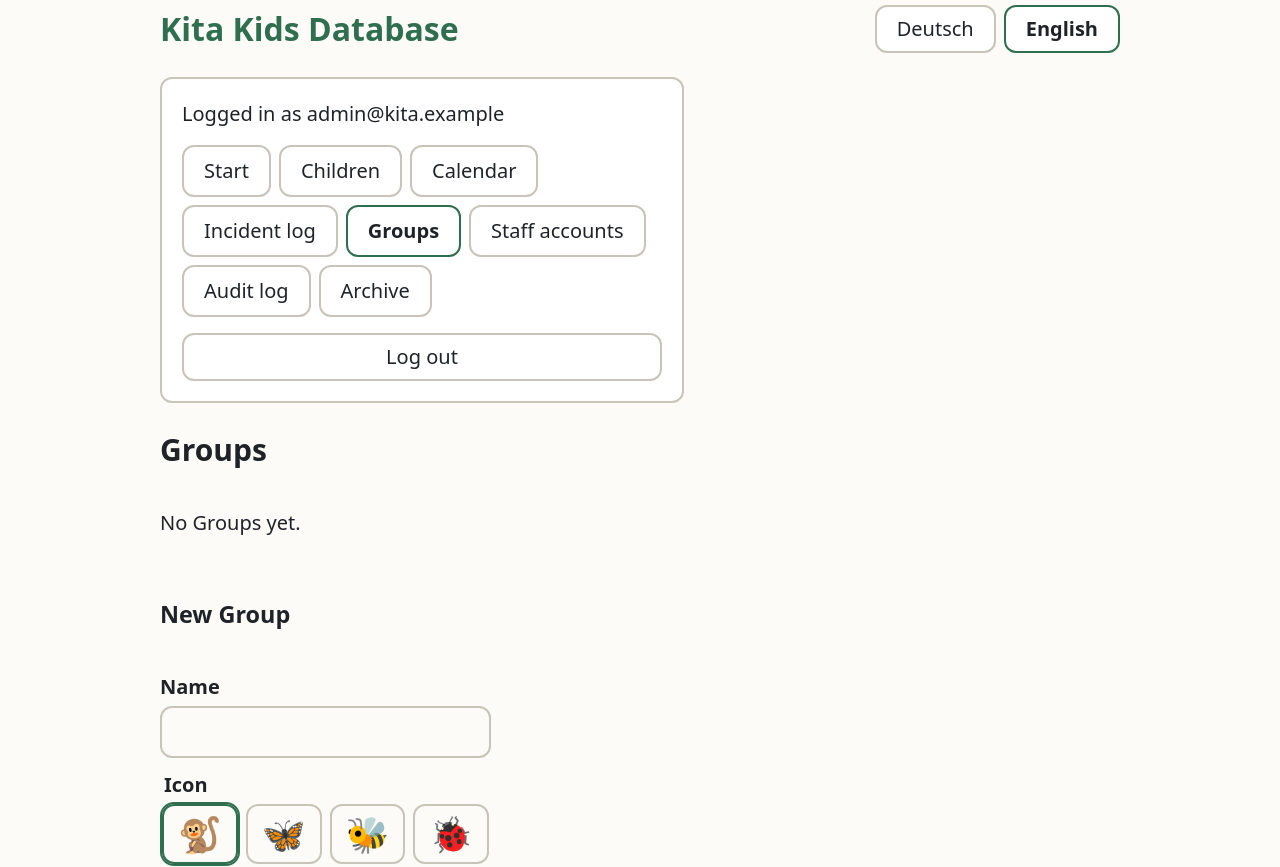
Groups › lets an Admin create a Group with a name and an icon
The width and height of the screenshot is (1280, 867).
Type "Bees" into the field labelled "Name" at coordinates (326, 732), box x1=160 y1=706 x2=491 y2=758
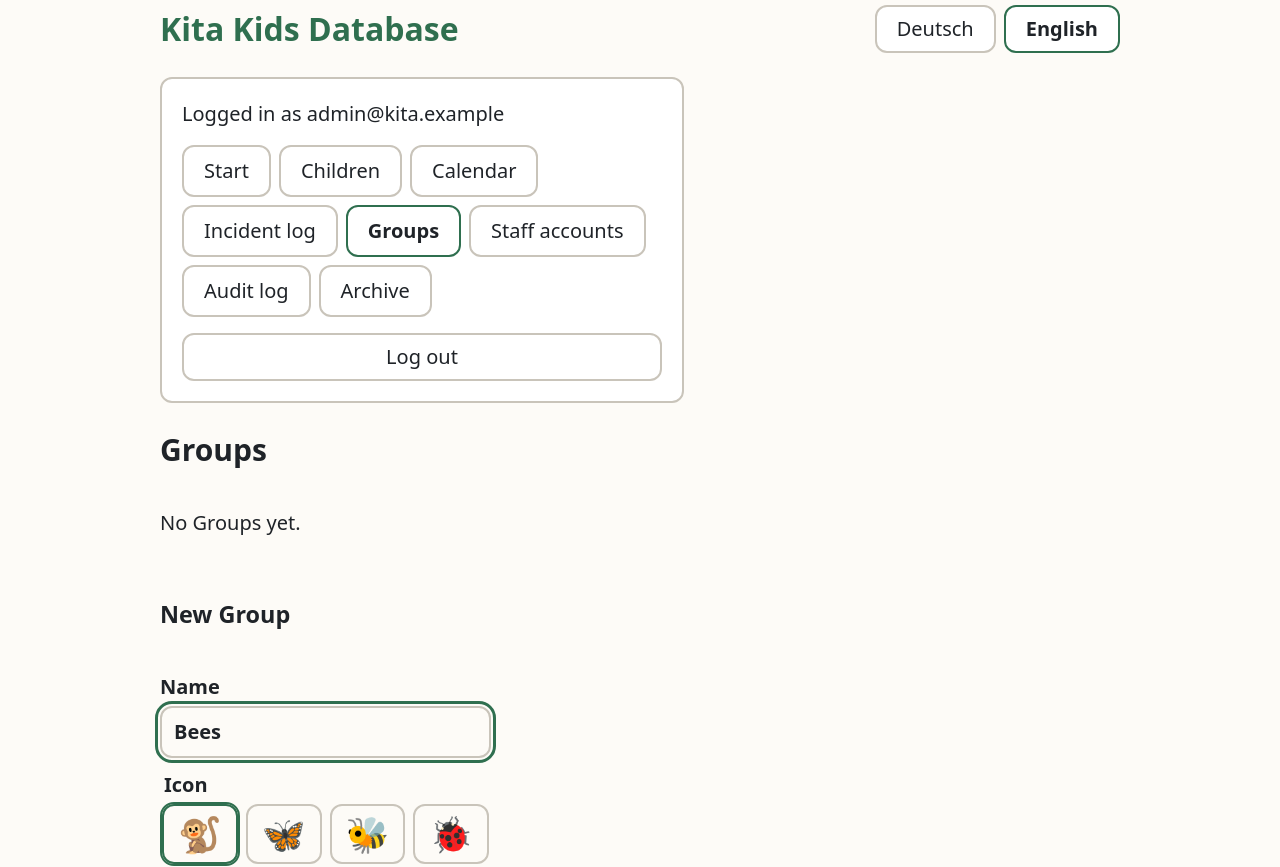
Click the radio button named "Bee" at coordinates (367, 834), box x1=330 y1=804 x2=405 y2=864
(page scrolled)
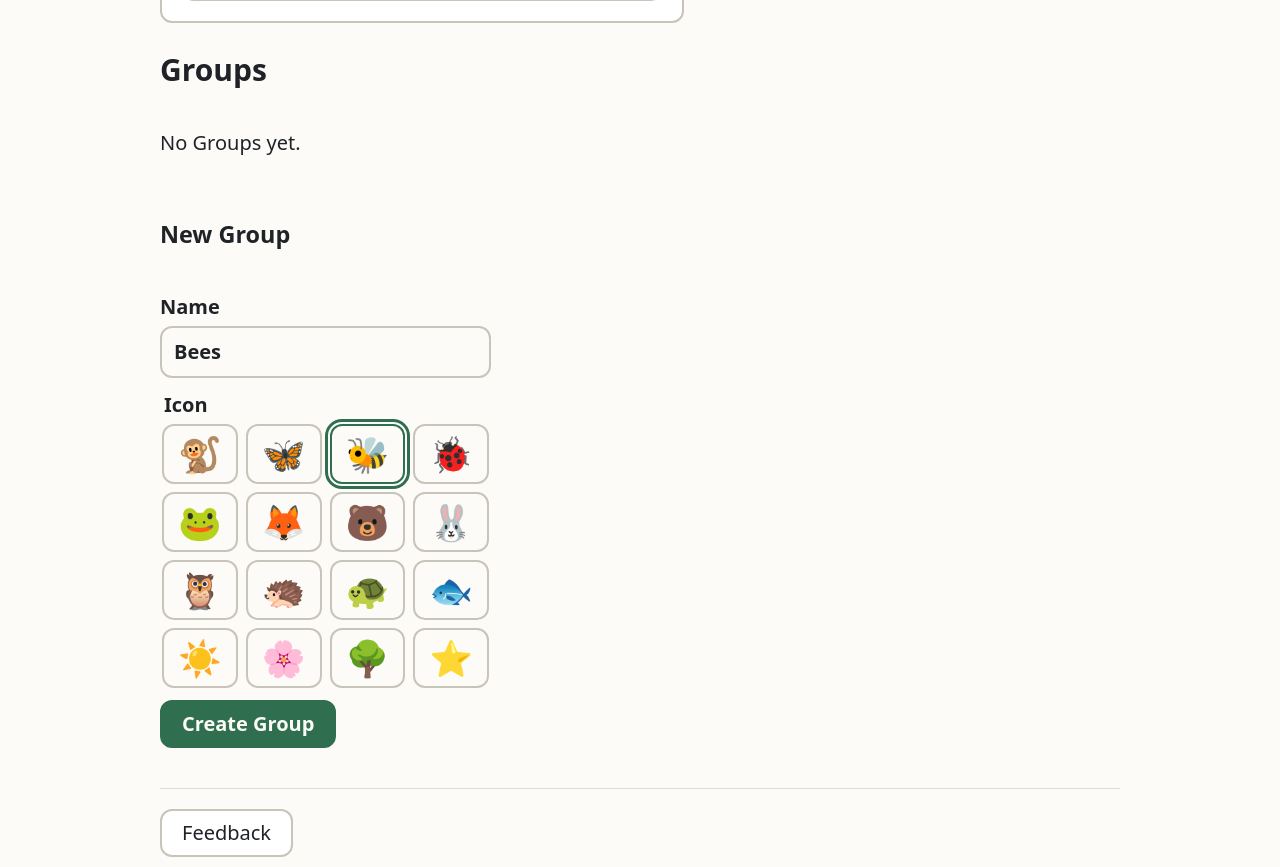
Click the button "Create Group" at coordinates (248, 724), box x1=160 y1=700 x2=336 y2=748
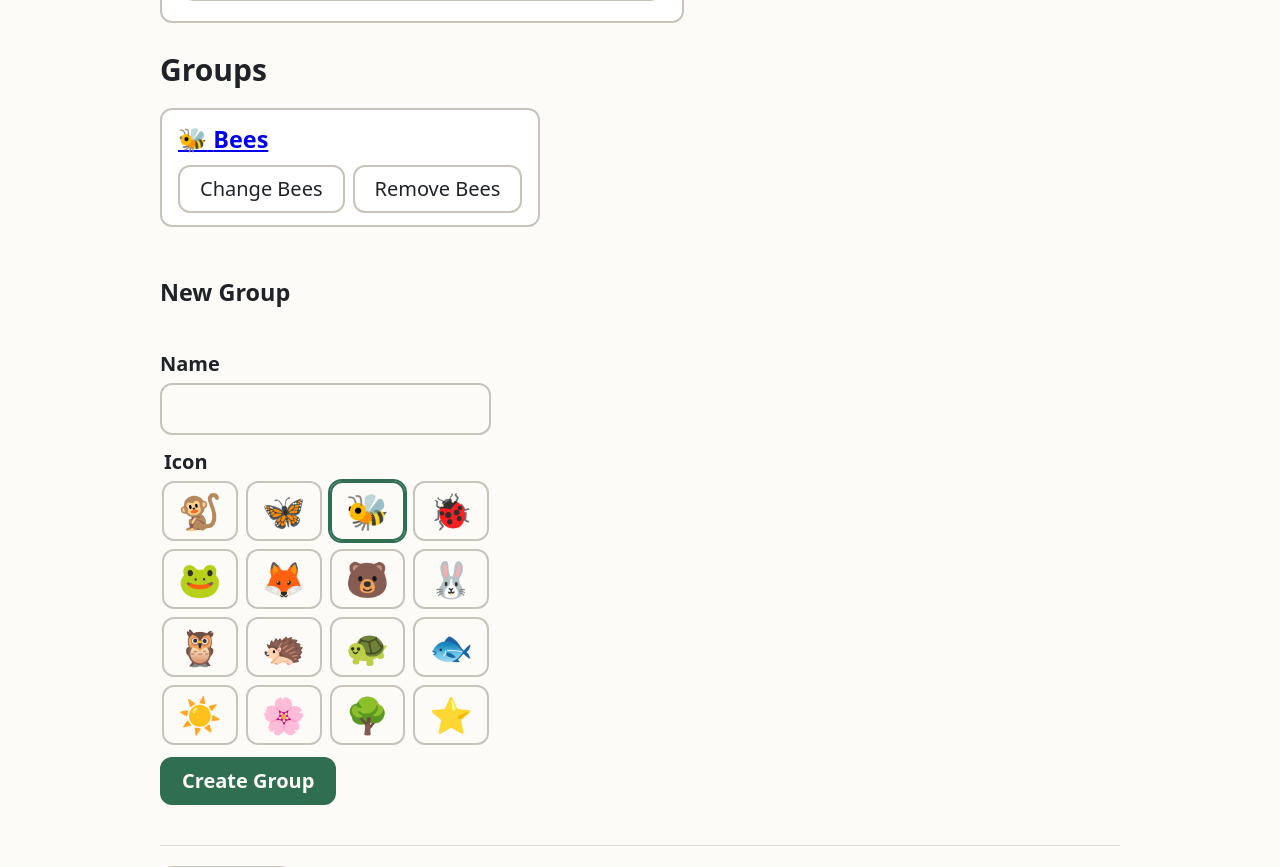
Check: the heading "🐝 Bees" is shown, box x1=178 y1=123 x2=268 y2=155
